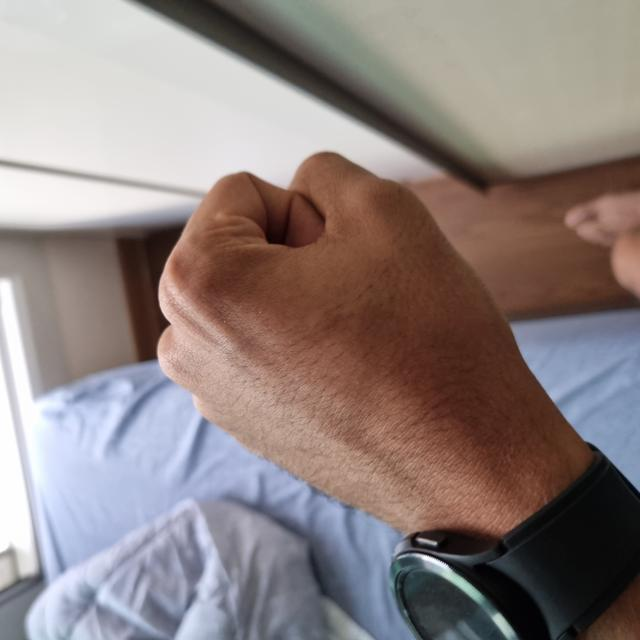Rock: (102, 153, 488, 640)
